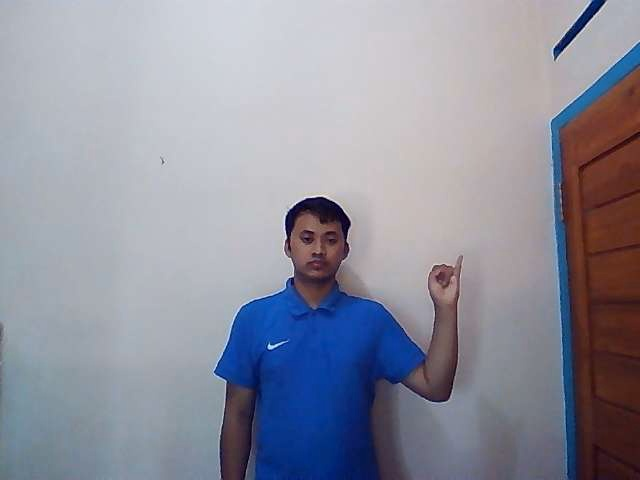I: (423, 254, 465, 307)
